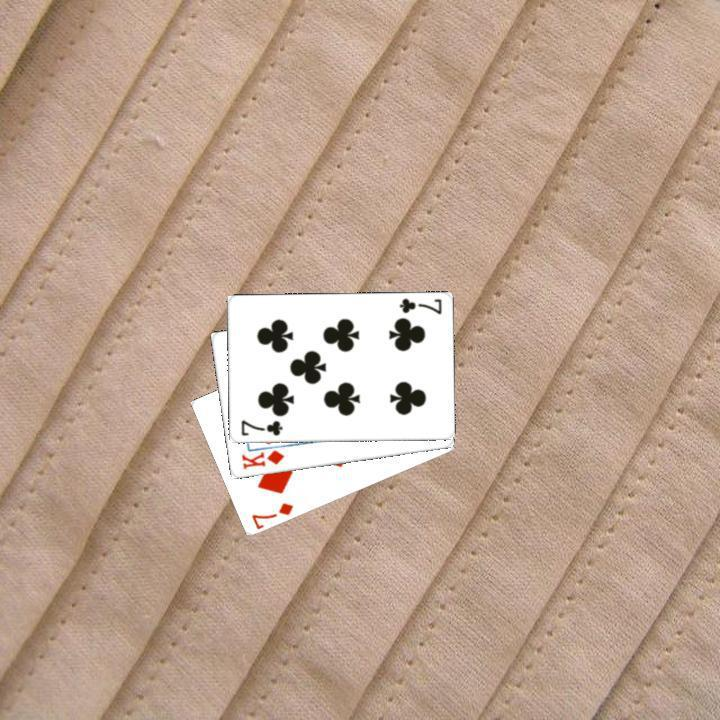7: (247, 498, 295, 530), (236, 416, 284, 438), (395, 294, 443, 316)
K: (237, 446, 286, 471)
